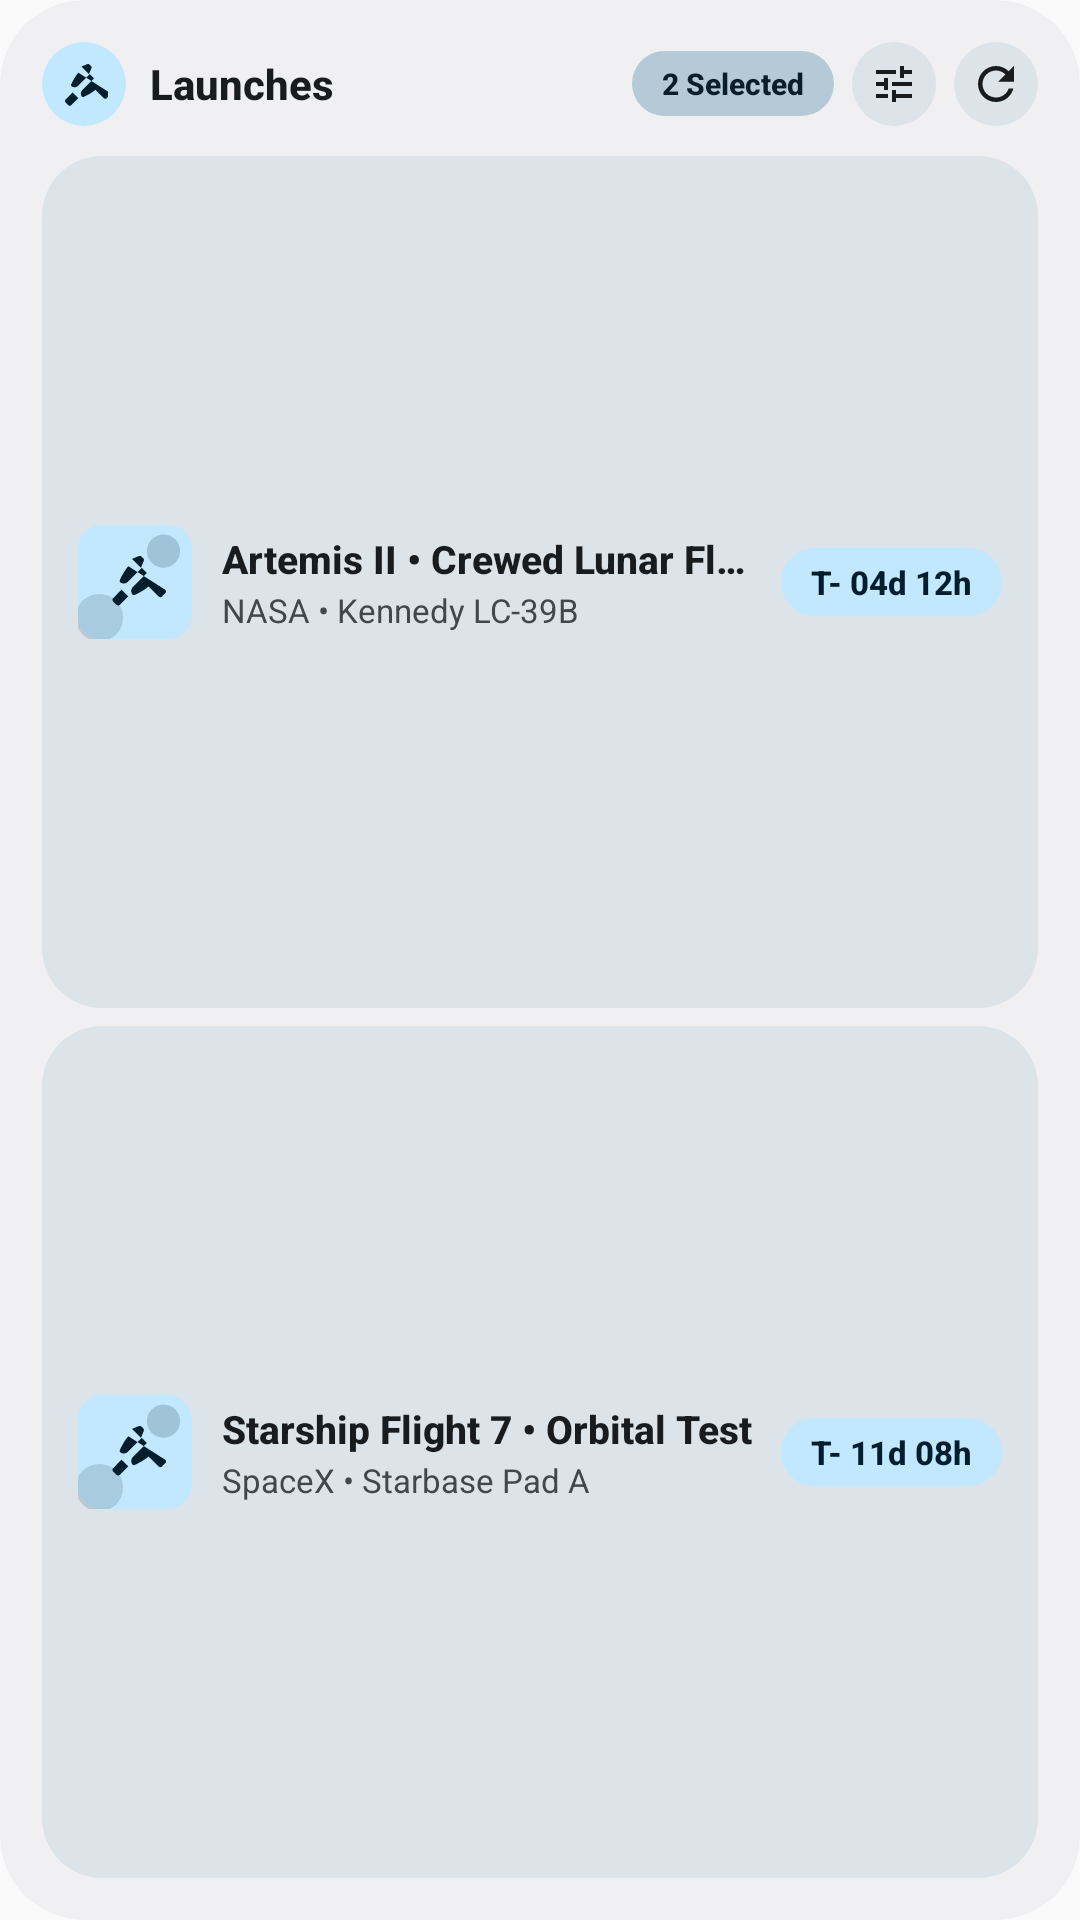

Named icons in this screenshot (1080w x 1920h) and their centers, (x=x, y=y):
Refresh launch widget: (x=996, y=84)
rocket launch: (x=84, y=84)
